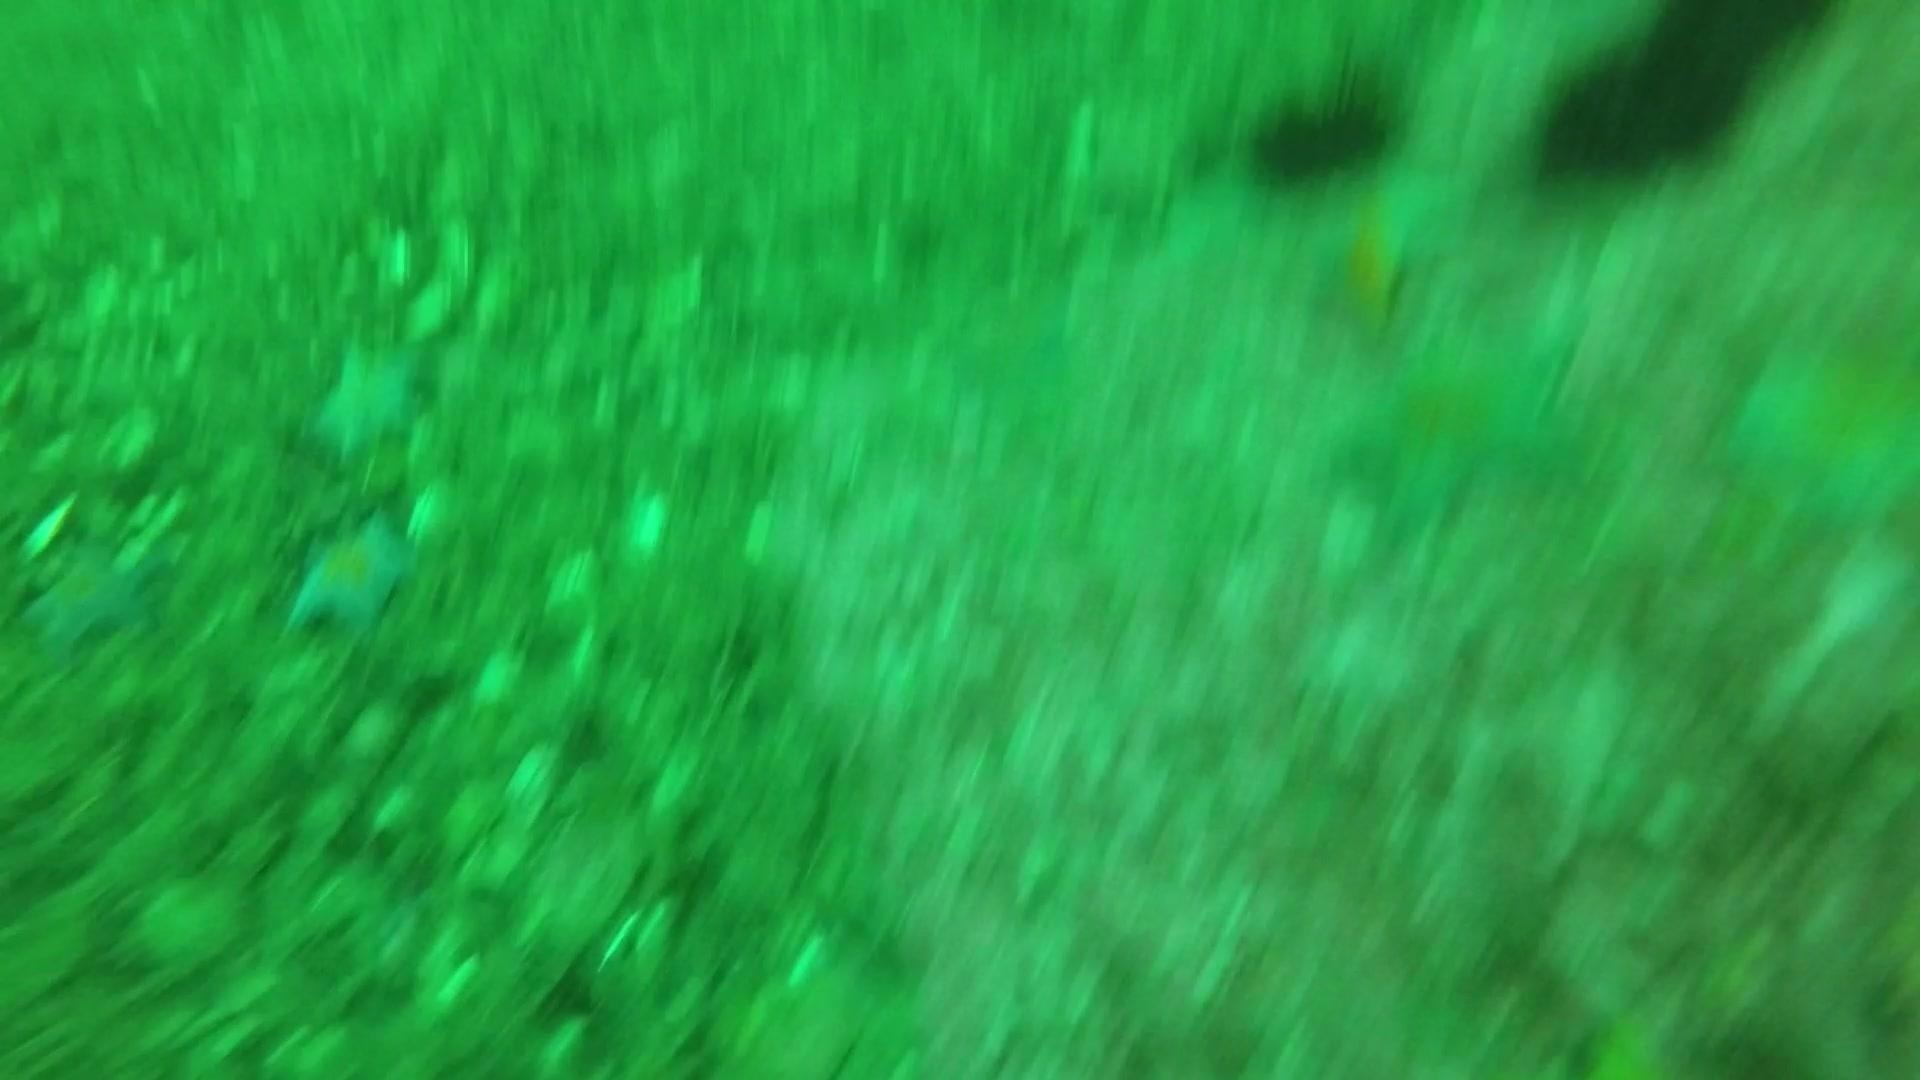echinus: (1244, 65, 1404, 190), (1523, 55, 1656, 191), (1618, 32, 1751, 167), (1656, 1, 1822, 102)
starfish: (1328, 301, 1589, 534), (1718, 322, 1919, 537), (1294, 164, 1465, 345), (13, 526, 169, 665), (276, 504, 427, 644), (297, 330, 443, 468)
